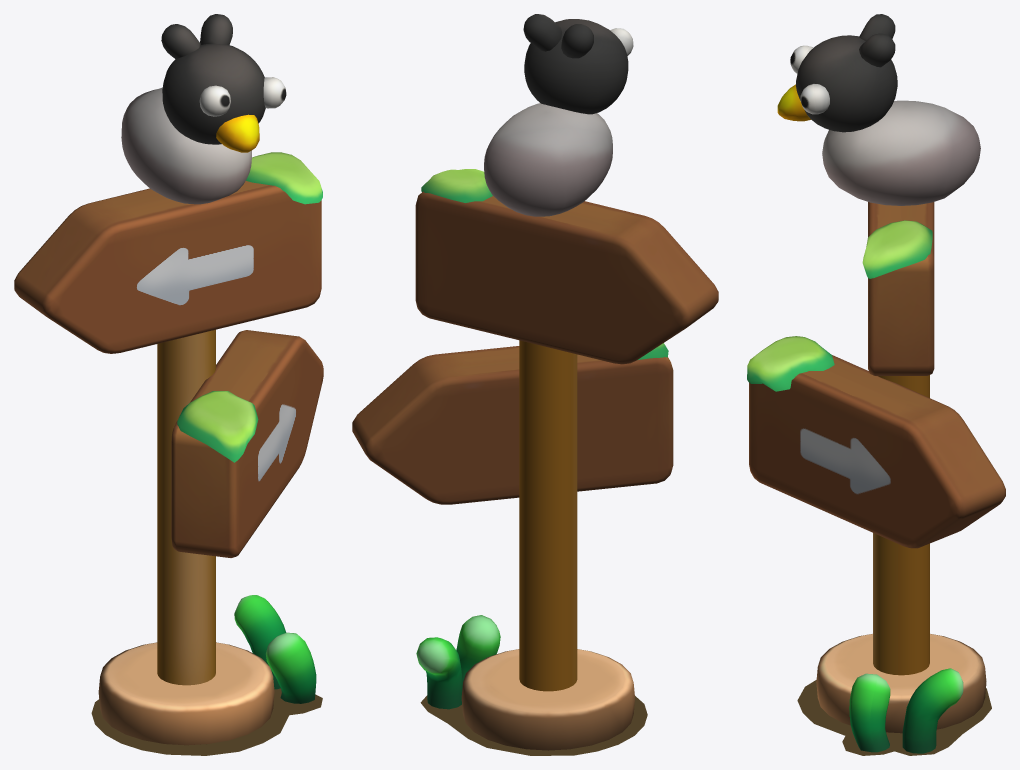
The model's file is RoadSign.fbx.
3 views of the same model, side by side, from view 1: azimuth 30°, elevation 25°; view 2: azimuth 150°, elevation 25°; view 3: azimuth 270°, elevation 25° (orthographic). The views are drawn at different scales.
Visible parts, largest first — view 1: Direct_01, Direct_02, Bird, Base, Stand, Sign_SDW; view 2: Direct_01, Direct_02, Stand, Bird, Base, Sign_SDW; view 3: Direct_02, Bird, Base, Direct_01, Stand, Sign_SDW.
Part boxes in pixels (bbox=[...]): Direct_01: bbox=[14, 152, 322, 353]; Direct_02: bbox=[171, 330, 323, 557]; Bird: bbox=[121, 14, 286, 204]; Base: bbox=[98, 595, 316, 745]; Stand: bbox=[157, 329, 215, 685]; Sign_SDW: bbox=[91, 688, 322, 755]; Direct_01: bbox=[415, 169, 718, 364]; Direct_02: bbox=[352, 343, 673, 504]; Stand: bbox=[519, 340, 577, 691]; Bird: bbox=[484, 14, 633, 216]; Base: bbox=[416, 615, 634, 750]; Sign_SDW: bbox=[420, 695, 647, 755]; Direct_02: bbox=[747, 336, 1005, 548]; Bird: bbox=[777, 14, 980, 205]; Base: bbox=[816, 634, 986, 753]; Direct_01: bbox=[862, 202, 934, 375]; Stand: bbox=[873, 375, 929, 675]; Sign_SDW: bbox=[797, 680, 991, 755].
Bounding box in the file's own units: 93.4 × 192 × 66.55.
Materials: 2 (1 with a texture image).
